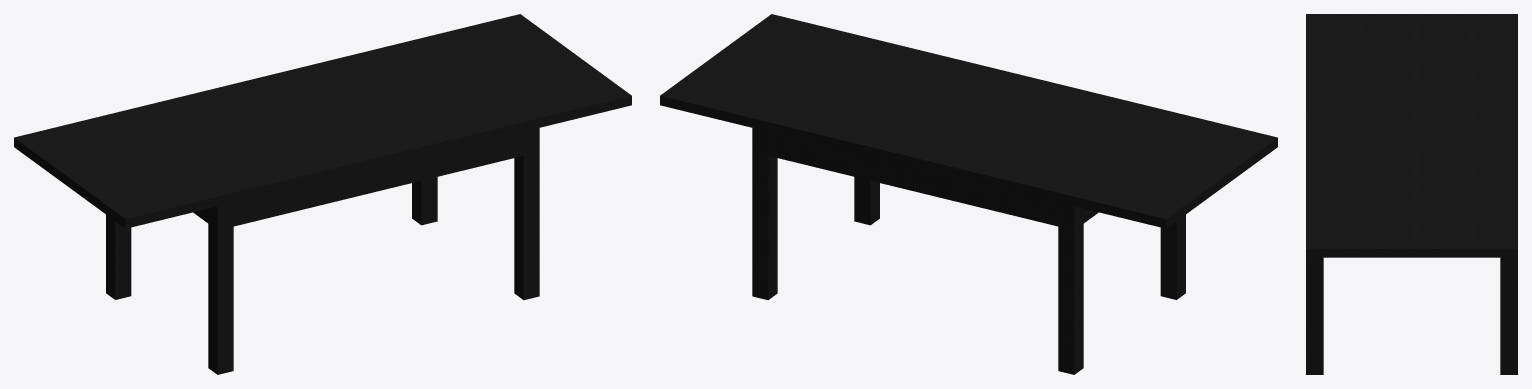
File: BJURSTA_Extending_Table.obj
The picture shows the model from 3 angles, left to right: view 1: azimuth 30°, elevation 25°; view 2: azimuth 150°, elevation 25°; view 3: azimuth 270°, elevation 25°; orthographic projection. The views are drawn at different scales.
Visible parts, largest first — view 1: Line001, Line004, Line002, Line003, Line005, Line007, Line008, Line006, Line009; view 2: Line001, Line004, Line002, Line003, Line005, Line006, Line009, Line007, Line008; view 3: Line004, Line001, Line003, Line002, Line008, Line009.
Part boxes in pixels (x1,y1,x2,y2): Line001: [14, 98, 286, 228]; Line004: [359, 14, 631, 144]; Line002: [267, 53, 470, 166]; Line003: [175, 76, 378, 189]; Line005: [193, 128, 539, 230]; Line007: [208, 224, 233, 374]; Line008: [514, 152, 539, 299]; Line006: [106, 215, 131, 299]; Line009: [412, 177, 437, 225]; Line001: [1005, 98, 1277, 228]; Line004: [660, 14, 932, 144]; Line002: [821, 53, 1024, 166]; Line003: [913, 76, 1116, 189]; Line005: [752, 128, 1098, 230]; Line006: [1058, 224, 1083, 374]; Line009: [752, 152, 777, 299]; Line007: [1160, 215, 1185, 299]; Line008: [854, 177, 879, 225]; Line004: [1306, 174, 1517, 257]; Line001: [1306, 14, 1517, 88]; Line003: [1306, 88, 1517, 131]; Line002: [1306, 131, 1517, 173]; Line008: [1306, 257, 1323, 374]; Line009: [1500, 257, 1517, 374].
Bounding box in the file's own units: 2200 × 740 × 840.
